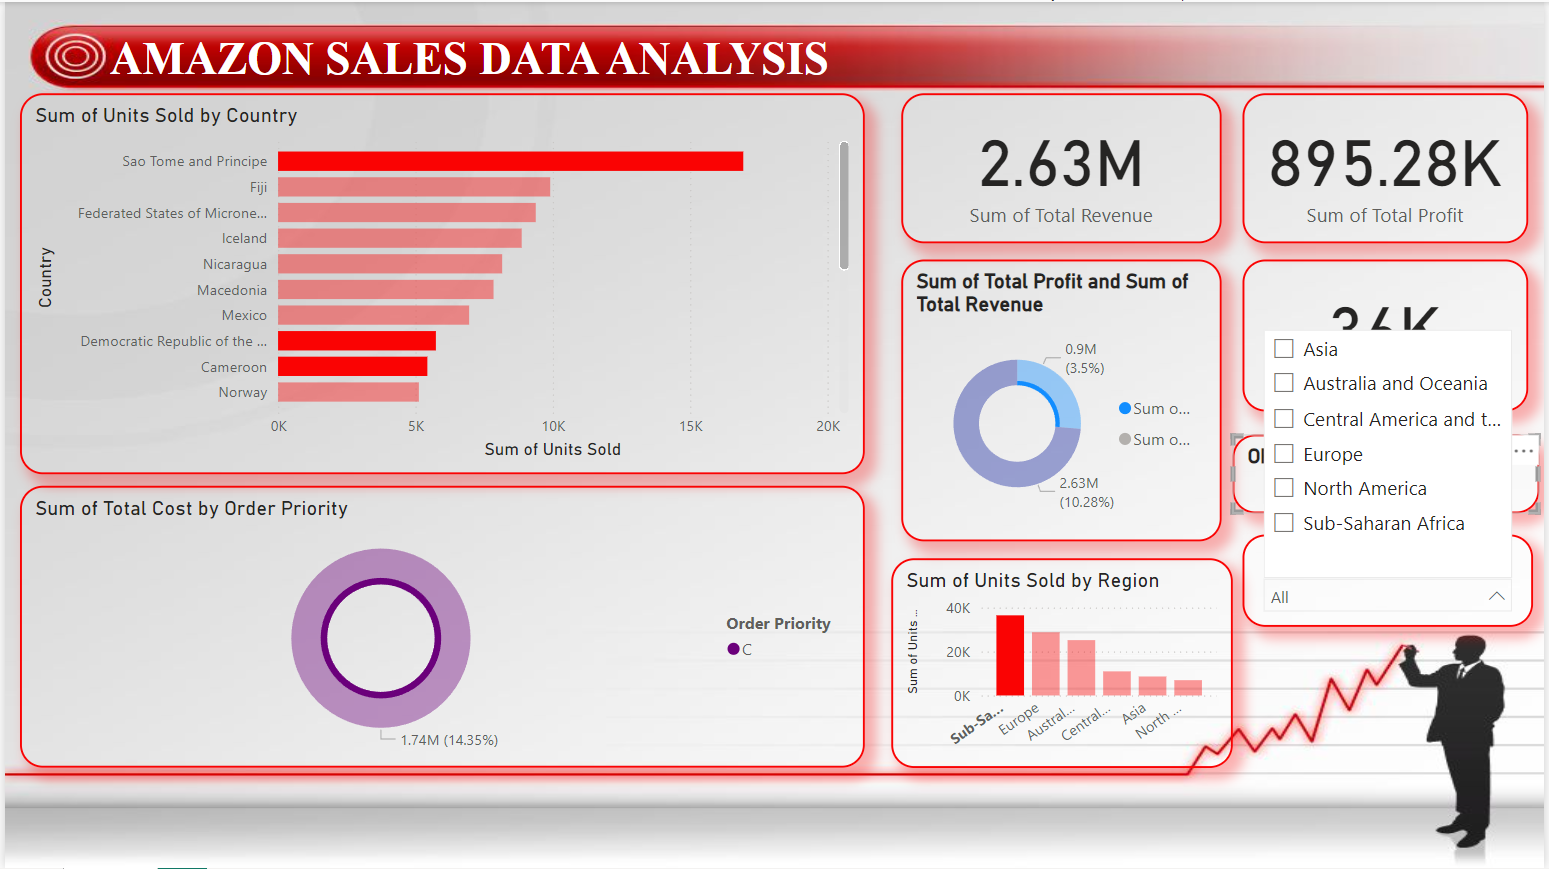

This screenshot's page, from the dashboard's own definition file:
{"tool":"powerbi","page":{"name":"Page 1","canvas":[1280,720],"ordinal":0},"visuals":[{"type":"card","fields":{"Values":["Sum(Amazon Sales data.Units Sold)"]},"box":[1029.2,214.1,237.4,126.2],"z":0},{"type":"card","fields":{"Values":["Sum(Amazon Sales data.Total Profit)"]},"box":[1029.2,75.5,237.4,124.9],"z":1000},{"type":"card","fields":{"Values":["Sum(Amazon Sales data.Total Revenue)"]},"box":[745.1,75.5,266.2,124.9],"z":2000},{"type":"textbox","box":[82.3,20.6,662.8,64.5],"z":3000},{"type":"donutChart","fields":{"Category":["Amazon Sales data.Order Priority"],"Y":["Sum(Amazon Sales data.Total Cost)"]},"box":[12.3,402.1,702.6,234.6],"z":5000},{"type":"donutChart","fields":{"Y":["Sum(Amazon Sales data.Total Profit)","Sum(Amazon Sales data.Total Revenue)"]},"box":[745.1,214.1,266.2,234.6],"z":6000},{"type":"slicer","title":"ORDER PRIORITY","fields":{"Values":["Amazon Sales data.Order Priority"]},"box":[1020.9,359.5,255.2,65.9],"z":7000},{"type":"clusteredBarChart","fields":{"Category":["Amazon Sales data.Country"],"Y":["Sum(Amazon Sales data.Units Sold)"]},"box":[12.3,75.5,702.6,317],"z":7001},{"type":"clusteredColumnChart","fields":{"Y":["Sum(Amazon Sales data.Units Sold)"],"Category":["Amazon Sales data.Region"]},"box":[736.9,462.4,284,174.3],"z":7002},{"type":"slicer","fields":{"Values":["Amazon Sales data.Region"]},"box":[1029.2,443.2,241.5,76.8],"z":7003}]}

Visuals, with their boxes in screenshot pixels (x1, y1, x2, y2), scaled from the page's 1280x720 canvas onto the 1549x869 screenshot:
card - Sum(Amazon Sales data.Units Sold): 1245/258/1533/411
card - Sum(Amazon Sales data.Total Profit): 1245/91/1533/242
card - Sum(Amazon Sales data.Total Revenue): 902/91/1224/242
textbox: 100/25/902/103
donutChart - Amazon Sales data.Order Priority x Sum(Amazon Sales data.Total Cost): 15/485/865/768
donutChart - Sum(Amazon Sales data.Total Profit) x Sum(Amazon Sales data.Total Revenue): 902/258/1224/542
"ORDER PRIORITY" slicer: 1235/434/1544/513
clusteredBarChart - Amazon Sales data.Country x Sum(Amazon Sales data.Units Sold): 15/91/865/474
clusteredColumnChart - Sum(Amazon Sales data.Units Sold) x Amazon Sales data.Region: 892/558/1235/768
slicer - Amazon Sales data.Region: 1245/535/1538/628
